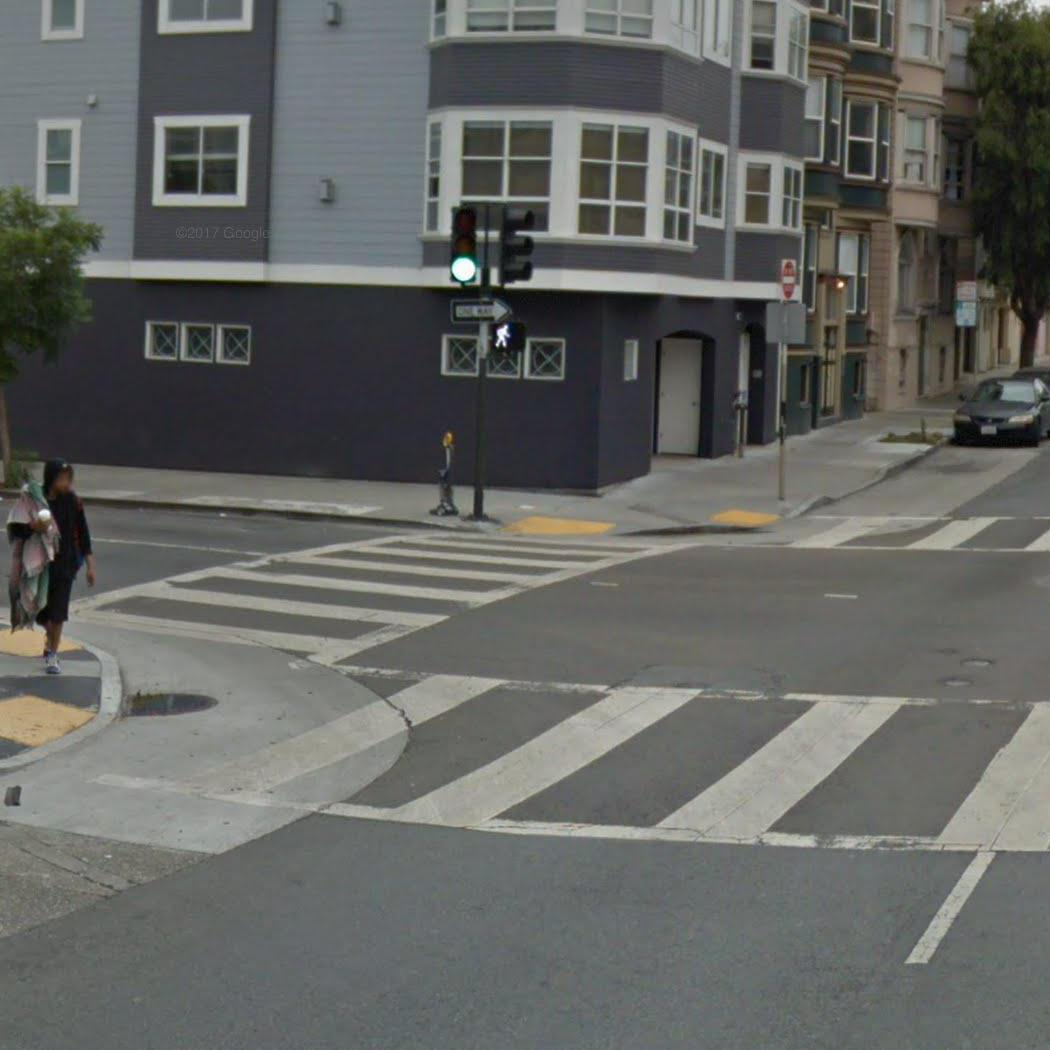2 Hour Parking: (955, 280, 977, 301)
